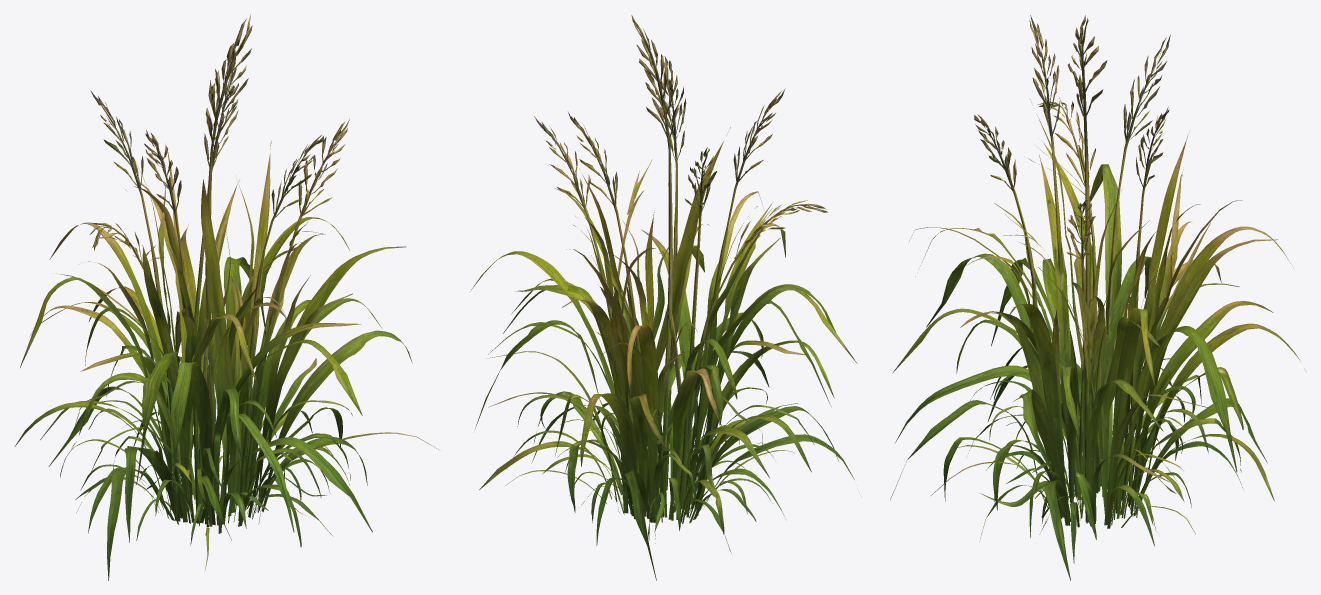
Rendered from Yuyos_1_LOD0.glb.
3 views of the same model, side by side, from view 1: azimuth 30°, elevation 25°; view 2: azimuth 150°, elevation 25°; view 3: azimuth 270°, elevation 25° (orthographic). The views are drawn at different scales.
Visible parts, largest first — view 1: tripo_node_e254b9e8-654f-4027-8854-1ef270dcddd6; view 2: tripo_node_e254b9e8-654f-4027-8854-1ef270dcddd6; view 3: tripo_node_e254b9e8-654f-4027-8854-1ef270dcddd6.
Part boxes in pixels (x1,y1,x2,y2): tripo_node_e254b9e8-654f-4027-8854-1ef270dcddd6: (15,14,438,580); tripo_node_e254b9e8-654f-4027-8854-1ef270dcddd6: (470,15,857,580); tripo_node_e254b9e8-654f-4027-8854-1ef270dcddd6: (890,15,1300,580).
Bounding box in the file's own units: 0.7925 × 0.9956 × 0.7328.
Materials: 1 (1 with a texture image).
